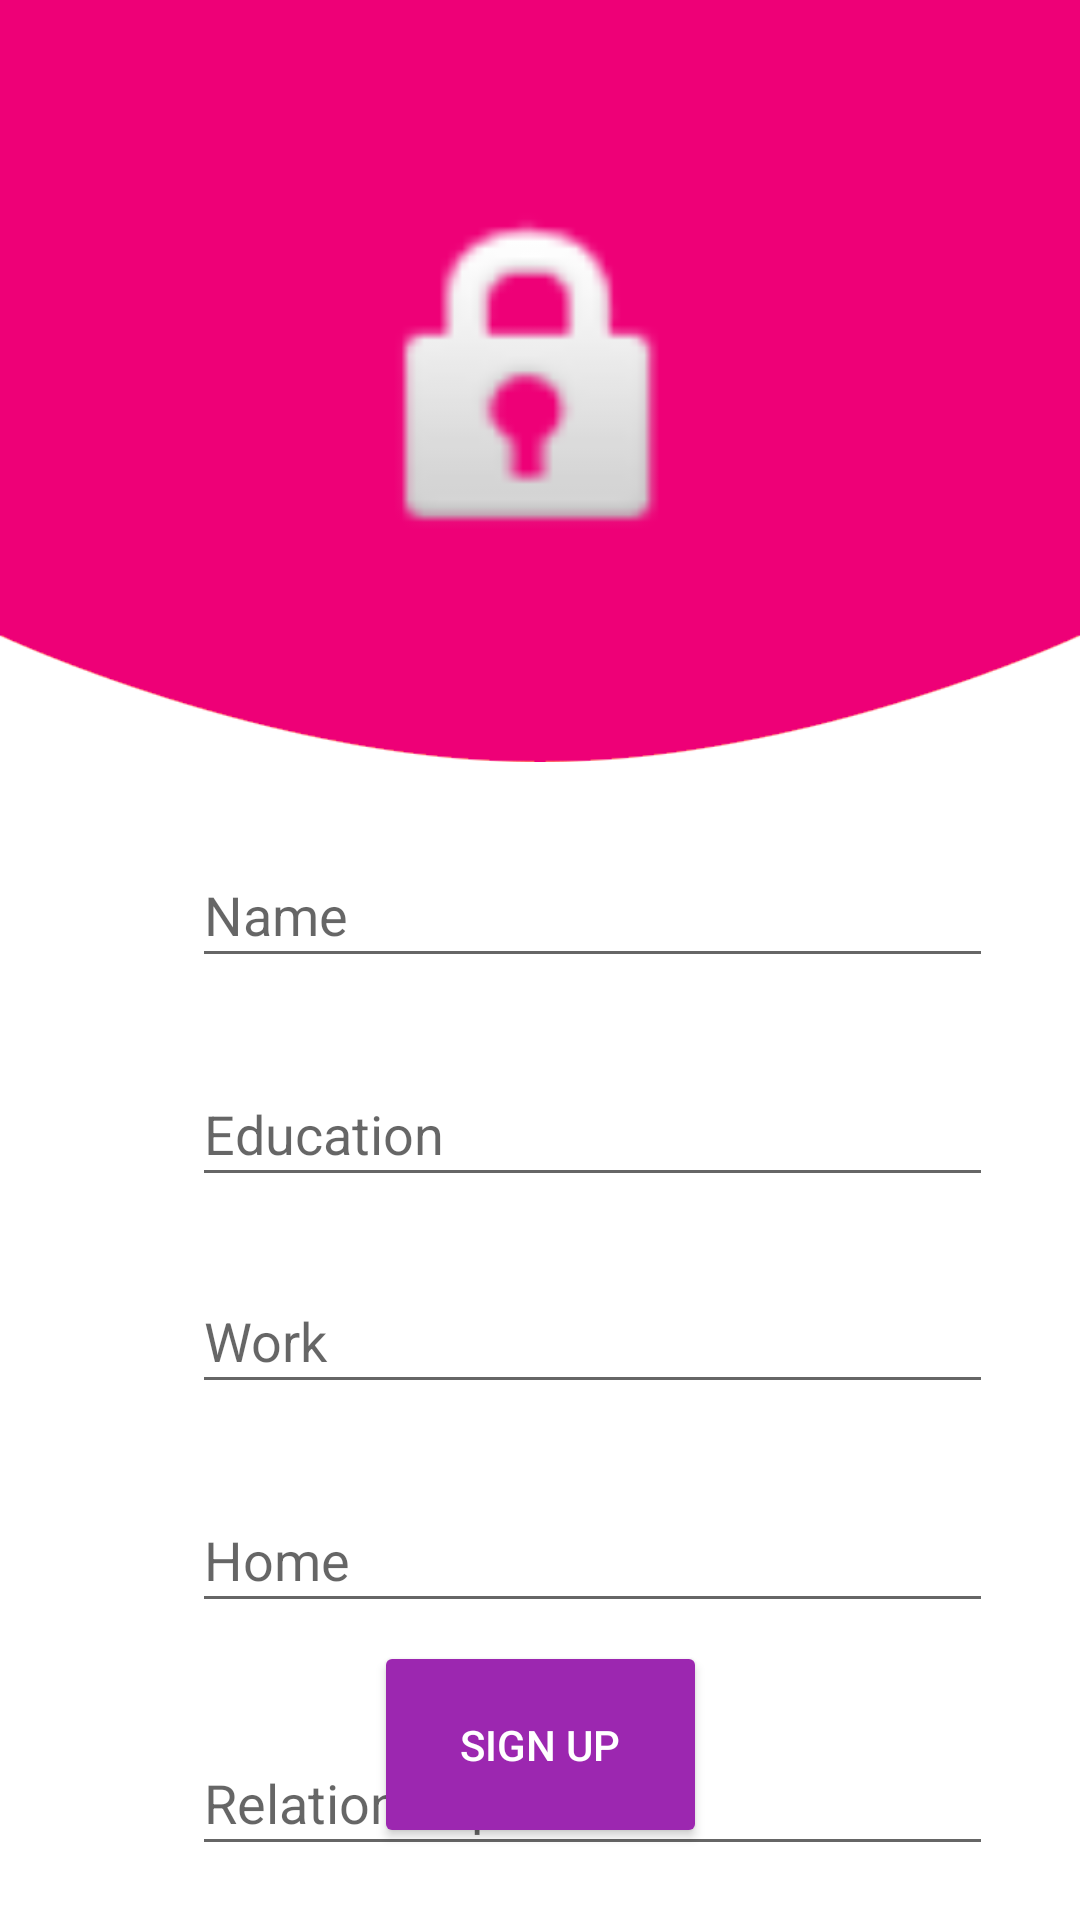

Icon click points for this 1080*1920 phone screenshot, format (x=x, y=y):
lock idle: (x=529, y=372)
